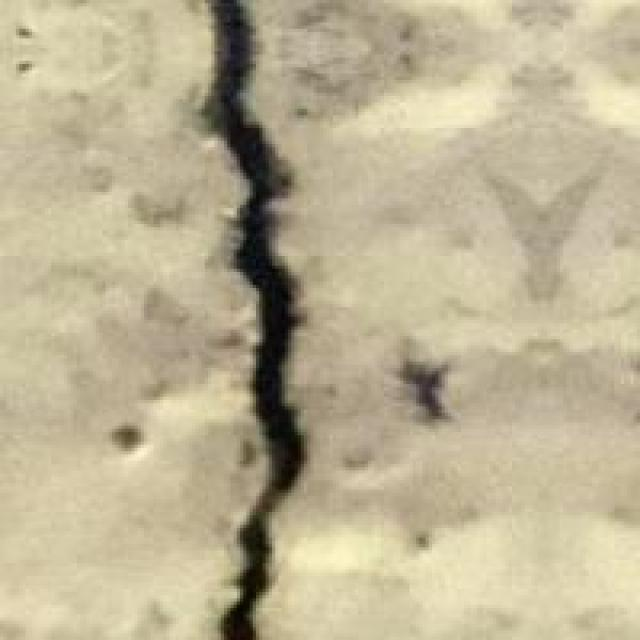Crack: (134, 0, 352, 637)
